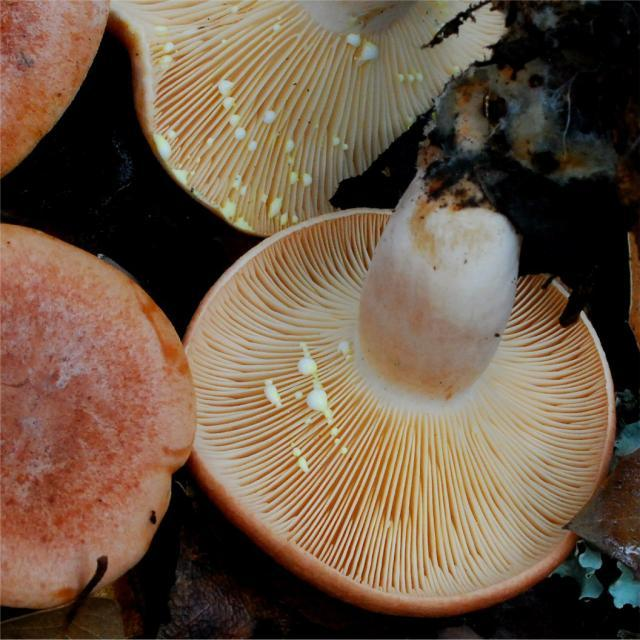Armillaria mellea: (184, 207, 616, 612), (0, 222, 200, 607)
